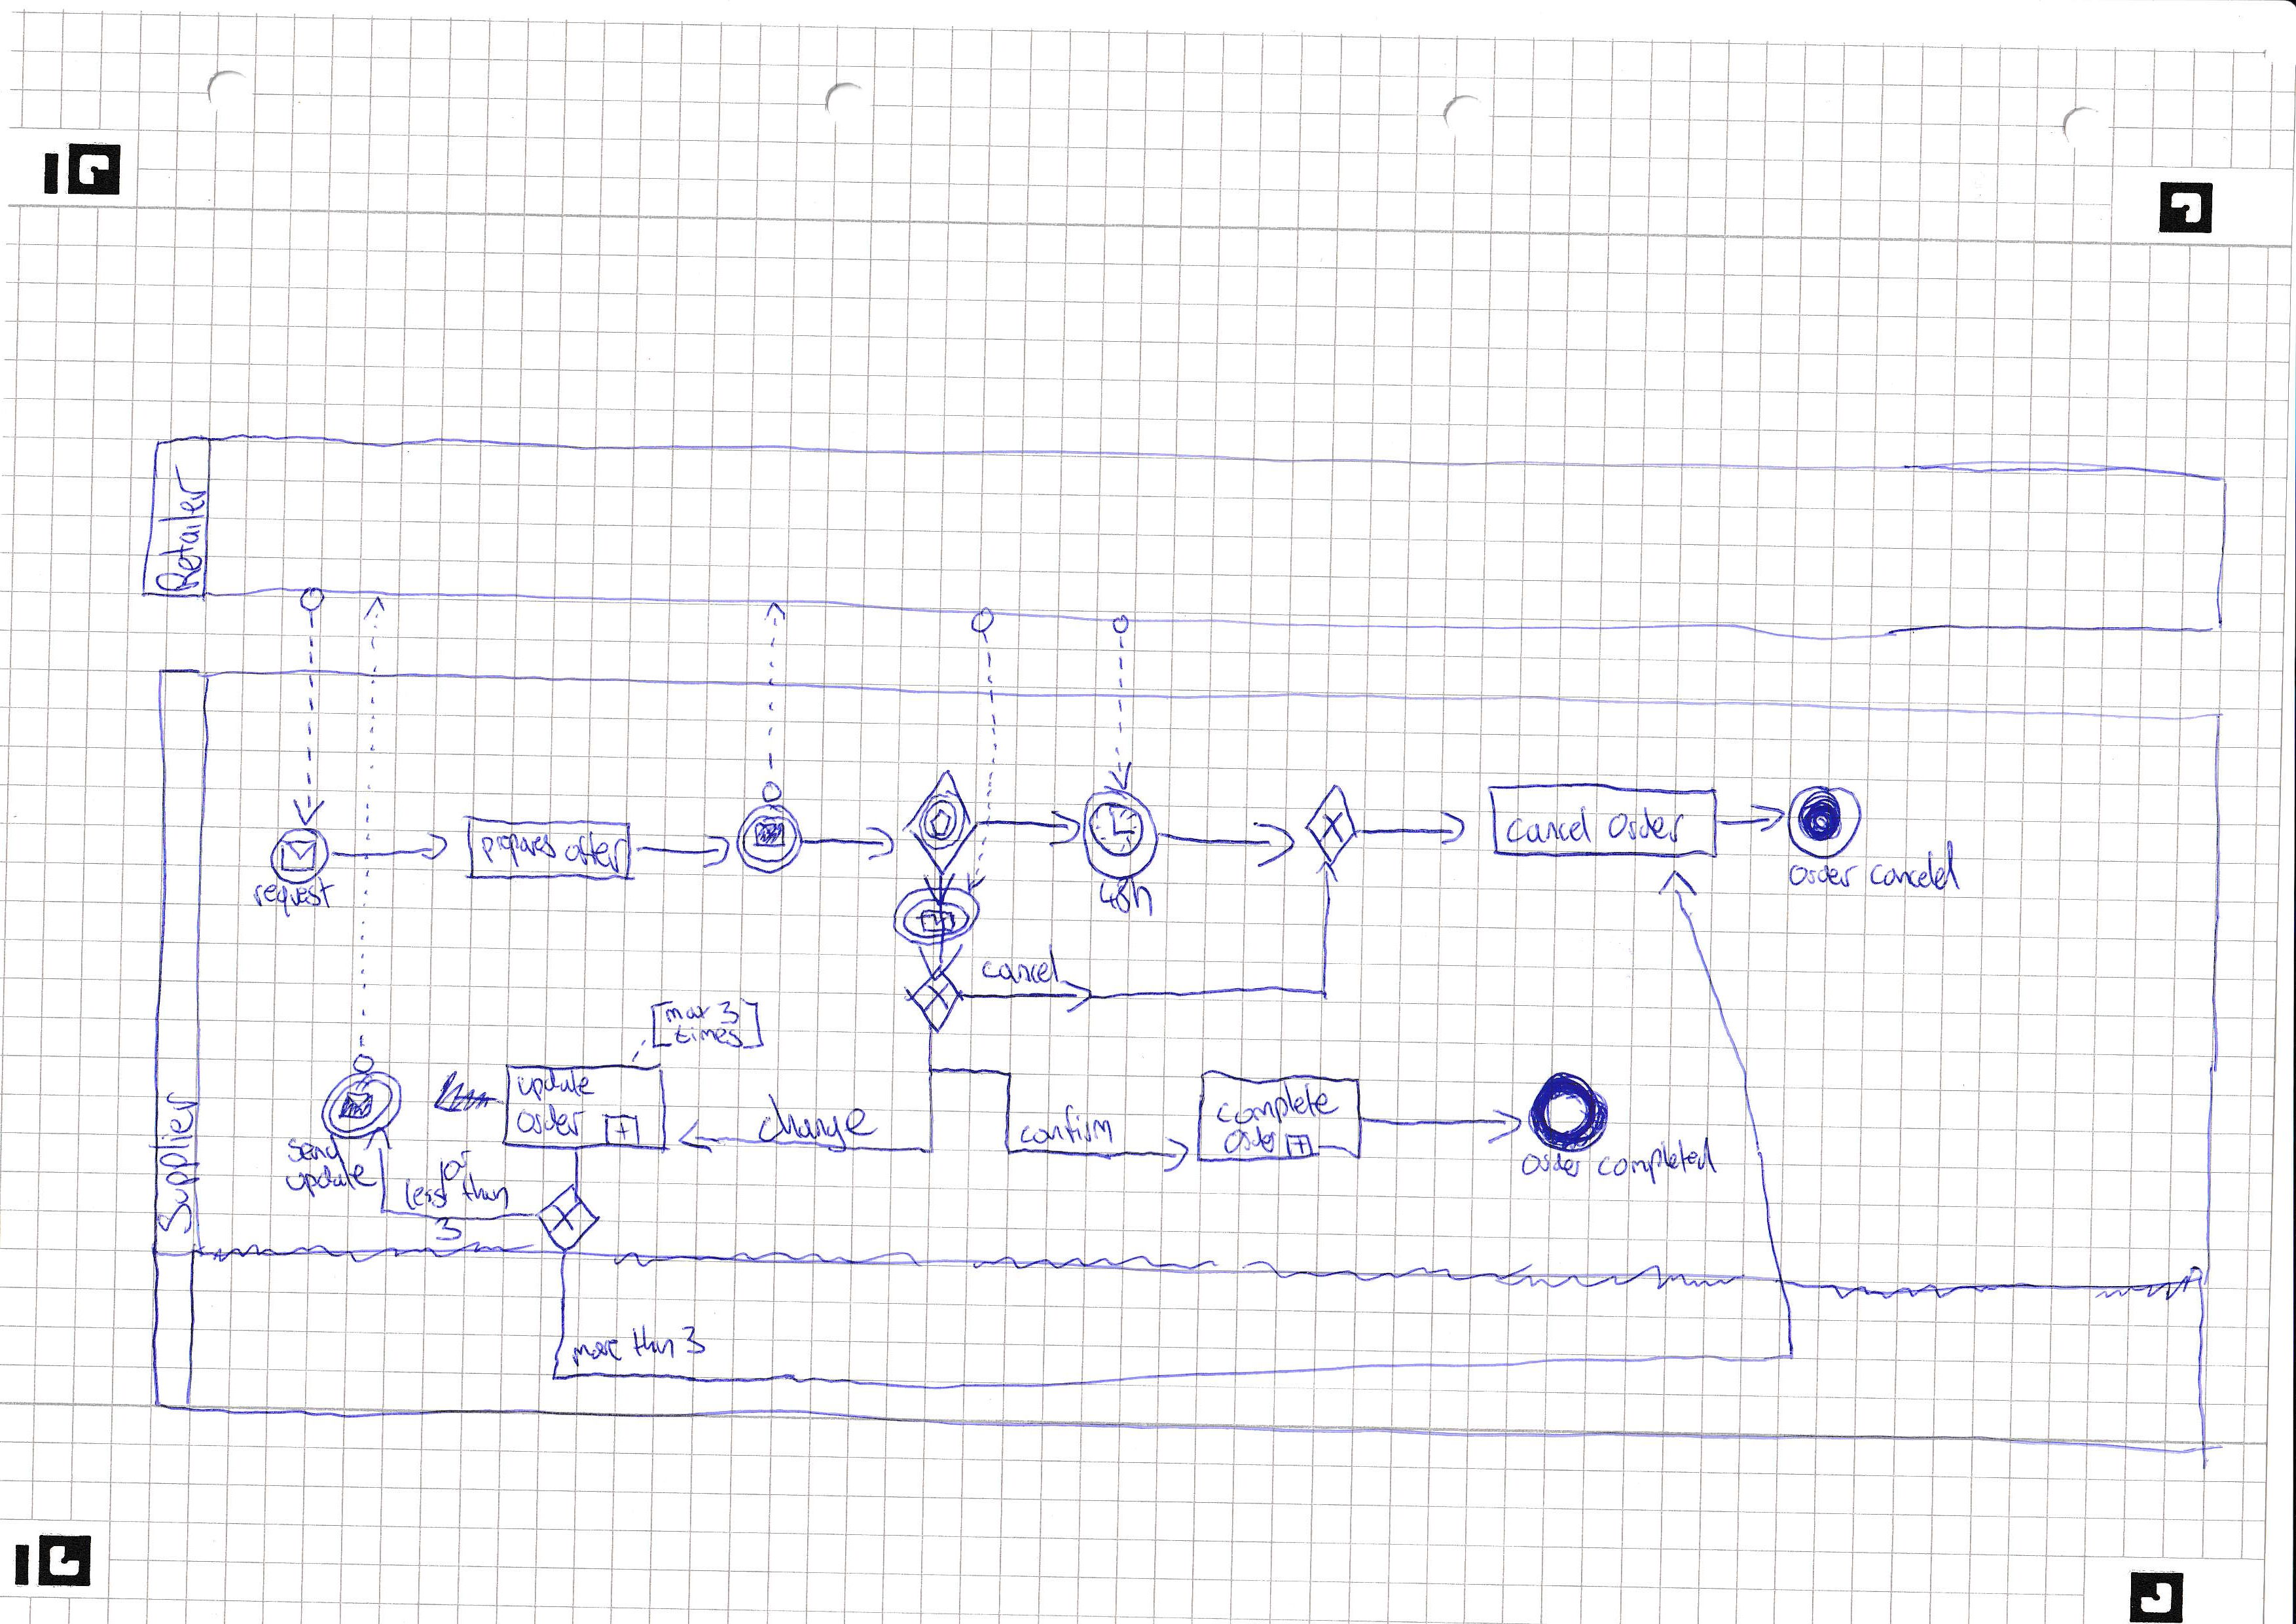3: (673, 1323, 715, 1355), (432, 1214, 466, 1246), (717, 997, 745, 1019)
48h: (1094, 874, 1158, 919)
Order: (515, 1102, 594, 1146), (1607, 808, 1692, 847), (1783, 856, 1862, 891), (1223, 1132, 1279, 1151)
Retailer: (151, 464, 206, 594)
Send: (285, 1139, 341, 1164)
Supplier: (155, 1093, 199, 1236)
cancel: (1504, 805, 1599, 849), (977, 944, 1061, 990)
canceled: (1866, 852, 1967, 896)
change: (748, 1095, 878, 1146)
complete: (1212, 1084, 1342, 1128)
completed: (1592, 1137, 1715, 1181)
confirm: (1019, 1102, 1123, 1148)
less: (399, 1181, 453, 1213)
max: (659, 1002, 710, 1019)
more: (566, 1329, 624, 1373)
offer: (559, 833, 627, 874)
order: (1520, 1151, 1583, 1179)
prepares: (474, 831, 553, 872)
request: (251, 882, 332, 919)
than: (450, 1176, 515, 1213), (625, 1327, 680, 1362)
times: (669, 1021, 748, 1049)
update: (286, 1162, 372, 1193), (515, 1070, 594, 1102)
